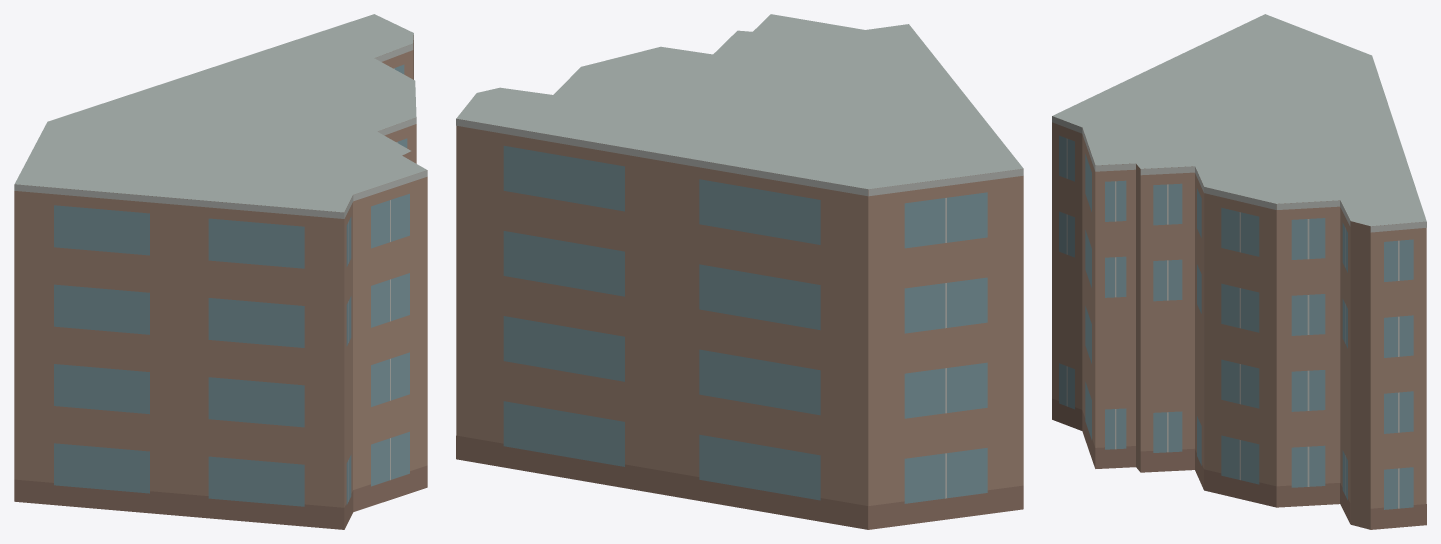
Rendered from survey-upis-32470904.glb.
3 renders of one model, left to right at view 1: azimuth 30°, elevation 25°; view 2: azimuth 150°, elevation 25°; view 3: azimuth 270°, elevation 25°, orthographic. The views are drawn at different scales.
Visible parts, largest first — view 1: survey-upis-32470904.tmp; view 2: survey-upis-32470904.tmp; view 3: survey-upis-32470904.tmp.
Boxes of the visible parts, left/top/right/bottom form: survey-upis-32470904.tmp: left=14, top=14, right=427, bottom=529; survey-upis-32470904.tmp: left=456, top=14, right=1023, bottom=529; survey-upis-32470904.tmp: left=1052, top=14, right=1426, bottom=529.
Bounding box in the file's own units: 17.7 × 11.8 × 13.21.
